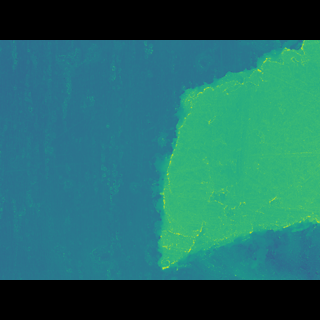Loch: (136, 69, 320, 250)
